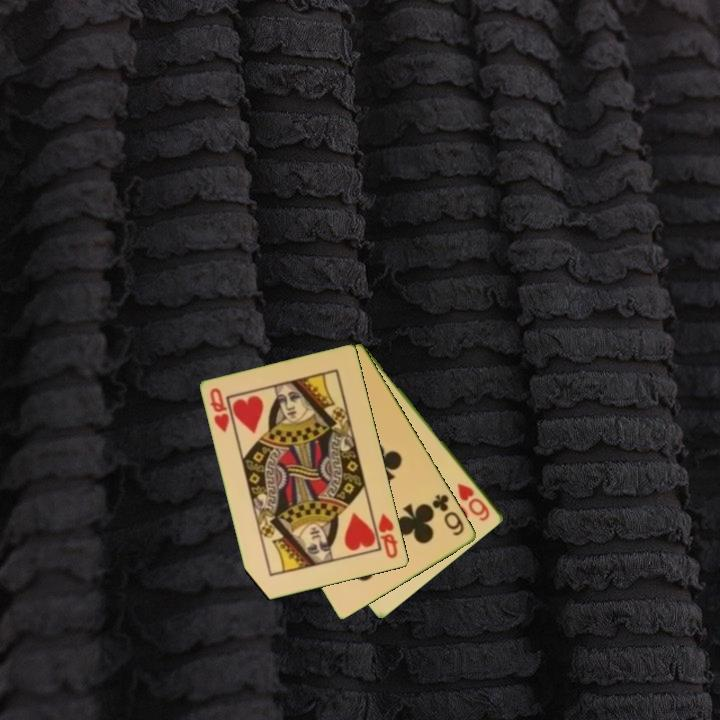6c: (429, 490, 468, 539)
6h: (454, 479, 493, 524)
Qh: (206, 385, 233, 436), (375, 510, 401, 561)
